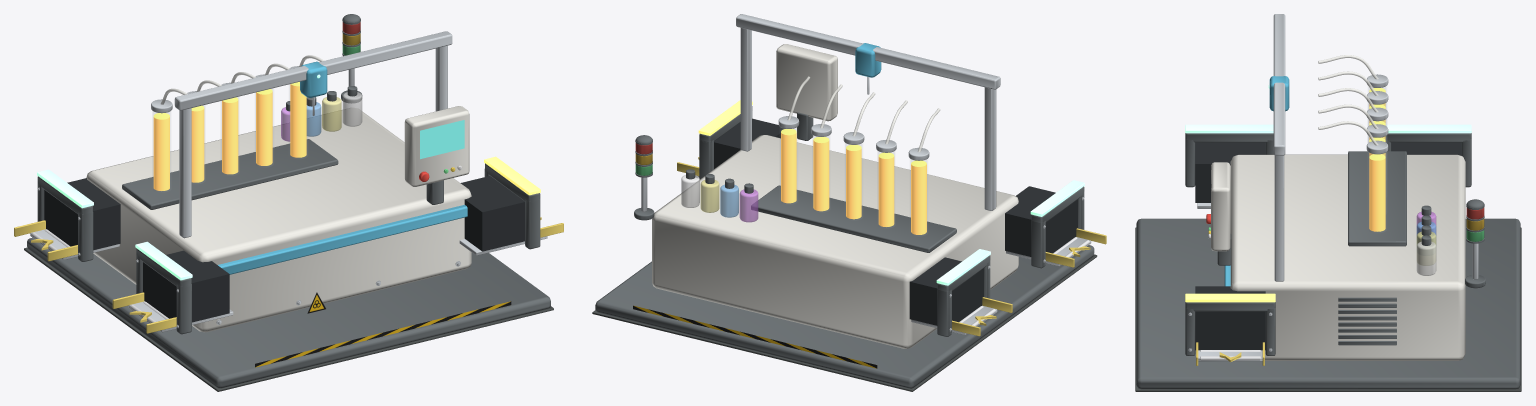
Rendered from sintetizador.glb.
3 renders of one model, left to right at view 1: azimuth 30°, elevation 25°; view 2: azimuth 150°, elevation 25°; view 3: azimuth 270°, elevation 25°, orthographic. The views are drawn at different scales.
Visible parts, largest first — view 1: armario, zocalo, placa_columnas, portico_viga, boca_salida_hueco, boca_entrada1_hueco, armario_franja, cuadro, boca_entrada0_hueco, zocalo_goma, portico_pie-1, pantalla (+20 smaller); view 2: armario, zocalo, placa_columnas, cuadro, portico_viga, boca_entrada1_hueco, boca_entrada0_hueco, zocalo_goma, portico_pie-1, portico_pie1, columna1_resina, columna3_resina (+18 smaller); view 3: armario, zocalo, placa_columnas, boca_salida_hueco, boca_entrada1_hueco, zocalo_goma, cuadro, portico_viga, portico_pie1, columna4_resina, boca_salida_franja, boca_entrada1_franja (+13 smaller).
Part boxes in pixels (box(x1,y1,x2,y2)): armario: box(86, 108, 471, 332); zocalo: box(27, 237, 550, 388); placa_columnas: box(122, 139, 338, 209); portico_viga: box(174, 31, 452, 110); boca_salida_hueco: box(460, 176, 524, 251); boca_entrada1_hueco: box(143, 250, 229, 322); armario_franja: box(218, 204, 467, 274); cuadro: box(404, 106, 469, 186); boca_entrada0_hueco: box(44, 178, 120, 250); zocalo_goma: box(24, 247, 553, 391); portico_pie-1: box(179, 108, 191, 238); pantalla: box(420, 120, 464, 159); armario: box(652, 135, 1018, 348); zocalo: box(595, 245, 1094, 388); placa_columnas: box(751, 185, 956, 252); cuadro: box(776, 44, 837, 121); portico_viga: box(736, 14, 1000, 89); boca_entrada1_hueco: box(1005, 186, 1077, 256); boca_entrada0_hueco: box(909, 257, 983, 325); zocalo_goma: box(592, 254, 1097, 391); portico_pie-1: box(984, 87, 996, 210); portico_pie1: box(740, 28, 751, 151); columna1_resina: box(878, 152, 894, 226); columna3_resina: box(813, 137, 829, 211); armario: box(1230, 154, 1465, 360); zocalo: box(1136, 218, 1520, 389); placa_columnas: box(1348, 151, 1406, 246); boca_salida_hueco: box(1195, 286, 1265, 350); boca_entrada1_hueco: box(1195, 142, 1265, 202); zocalo_goma: box(1135, 227, 1521, 391); cuadro: box(1211, 162, 1230, 251); portico_viga: box(1273, 14, 1285, 155); portico_pie1: box(1274, 155, 1284, 281); columna4_resina: box(1369, 154, 1385, 231); boca_salida_franja: box(1185, 293, 1275, 302); boca_entrada1_franja: box(1185, 124, 1273, 133).
Size of the model in its own units: 2.44 by 1.34 by 1.97.
Materials: 29 (2 with a texture image).
